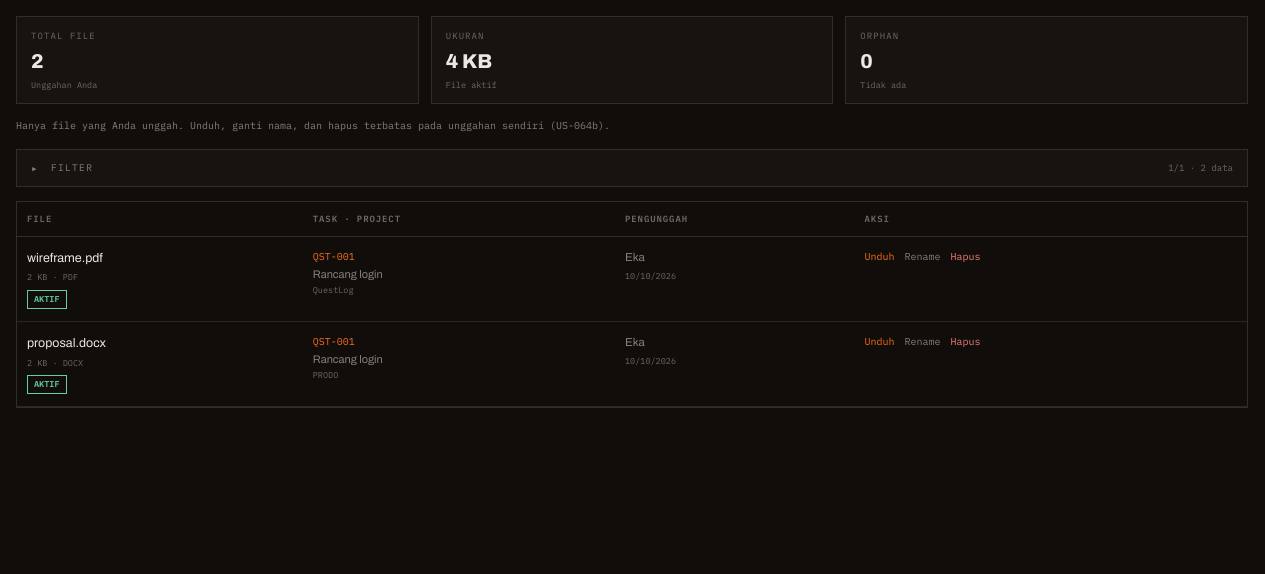
Test: DocumentsView mode Lampiran Saya (Editor) › filter project mempersempit daftar dari project pada file saya sendiri
Click the text "FILTER": (72, 168) [51,161,93,175]
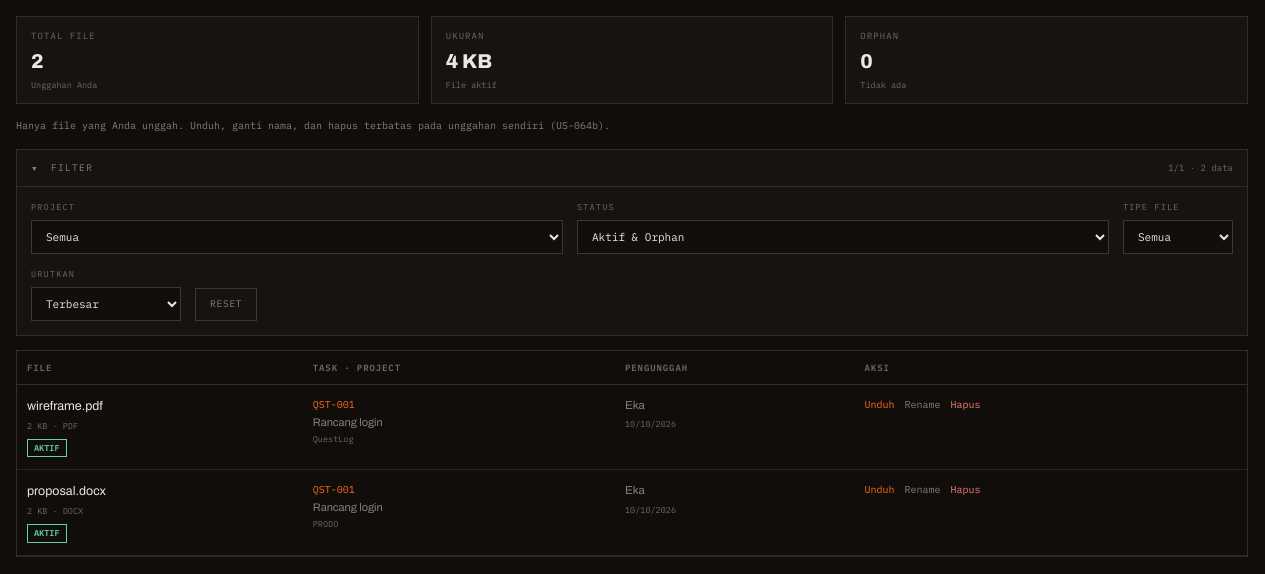
Select "PRODO" in the 1st dropdown: (297, 237) [31,220,563,254]
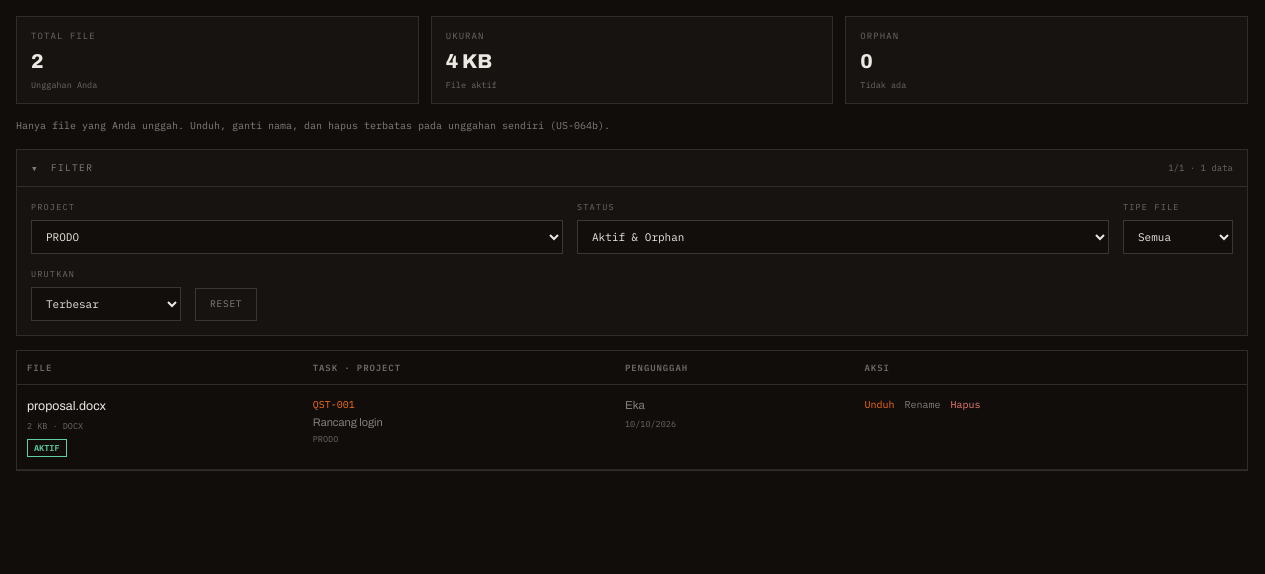
Expected: the text "proposal.docx" is shown, [27,399,106,413]
Result: the text "wireframe.pdf" is gone
